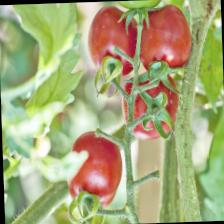tomato: (63, 127, 123, 224), (135, 2, 192, 82), (119, 68, 180, 141), (84, 2, 140, 78)
